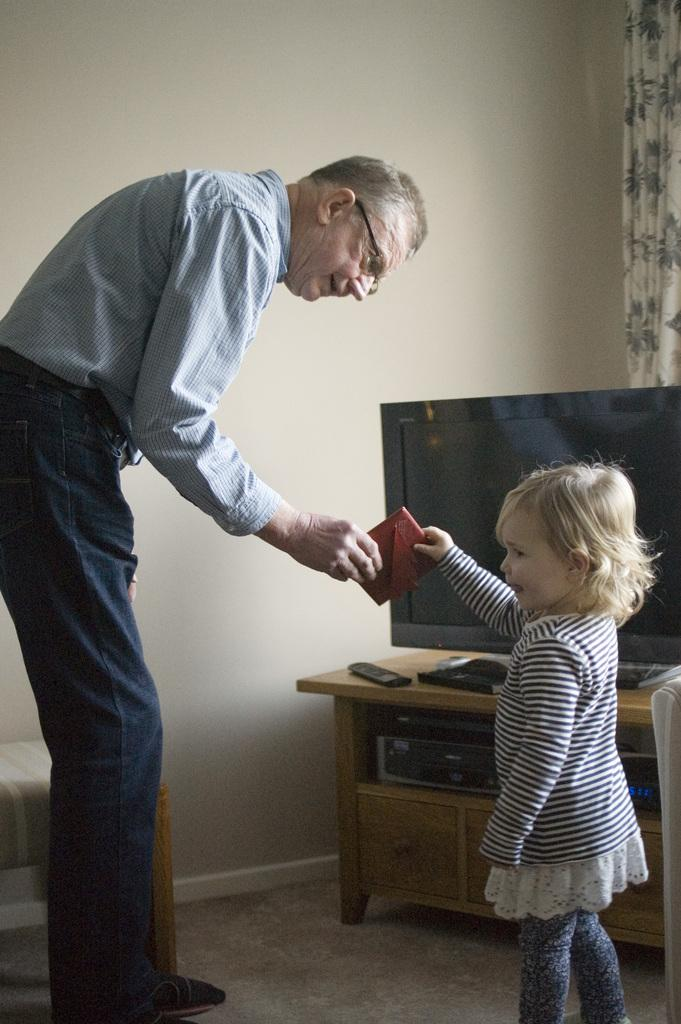cabinet_door: (359, 802, 448, 886)
